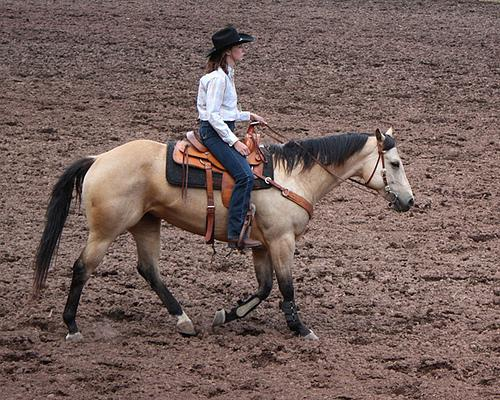person: (196, 27, 264, 250)
